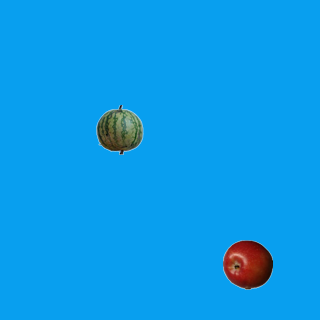Apple Braeburn: (222, 239, 272, 289)
Watermelon: (94, 104, 144, 154)
